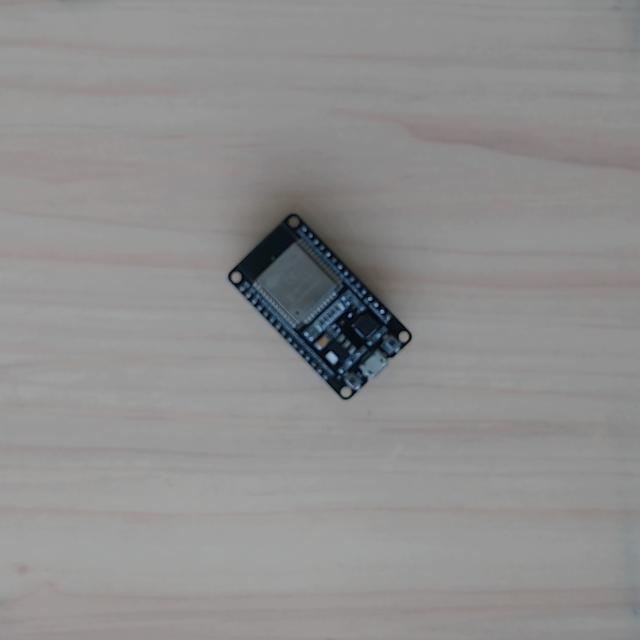ESP32-DevKit: (224, 211, 416, 404)
